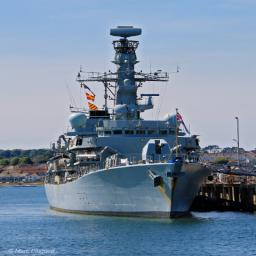Fragata: (44, 25, 215, 221)
